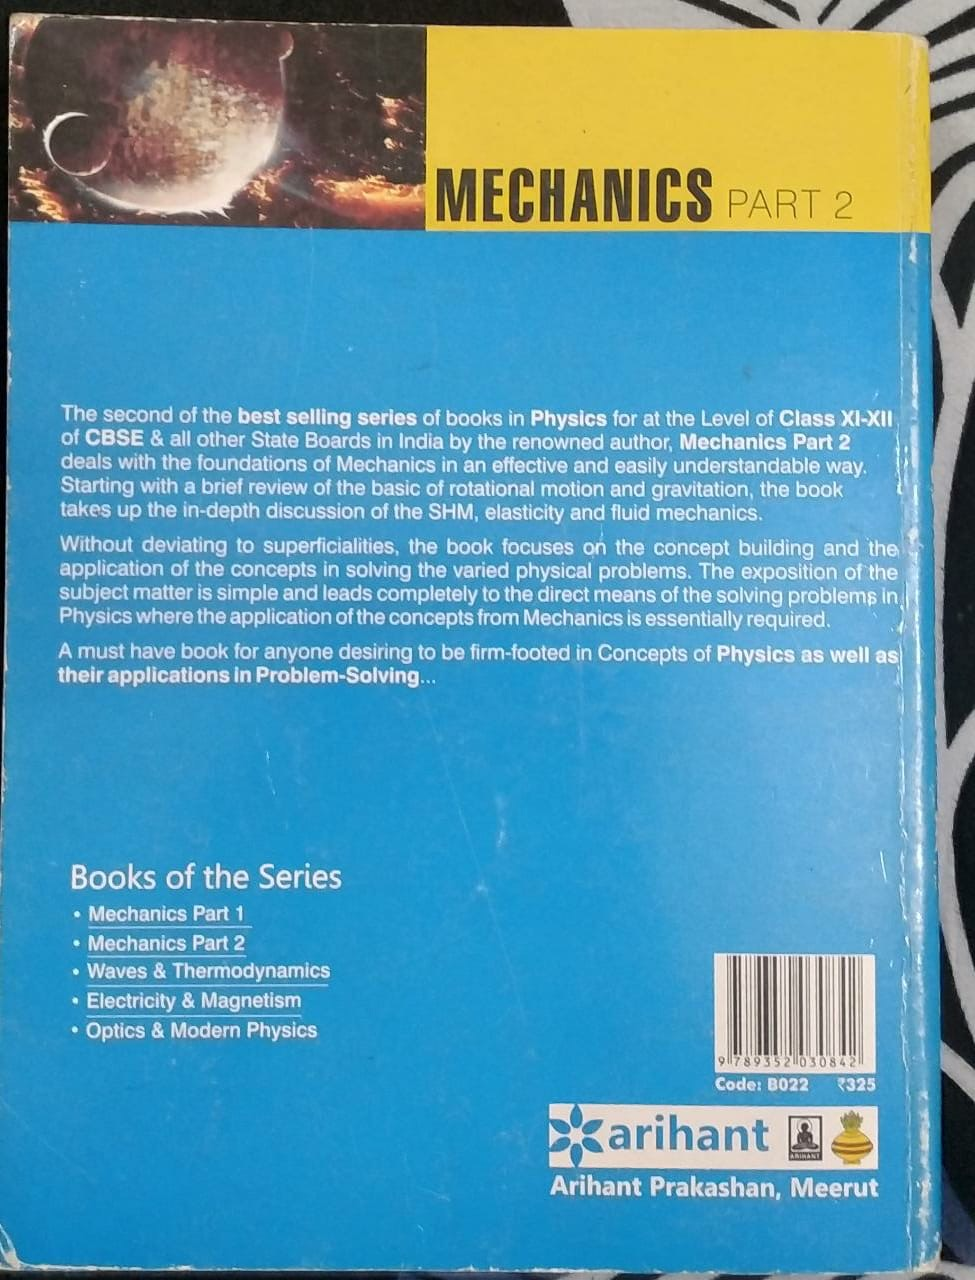barcode: (706, 944, 875, 1069)
